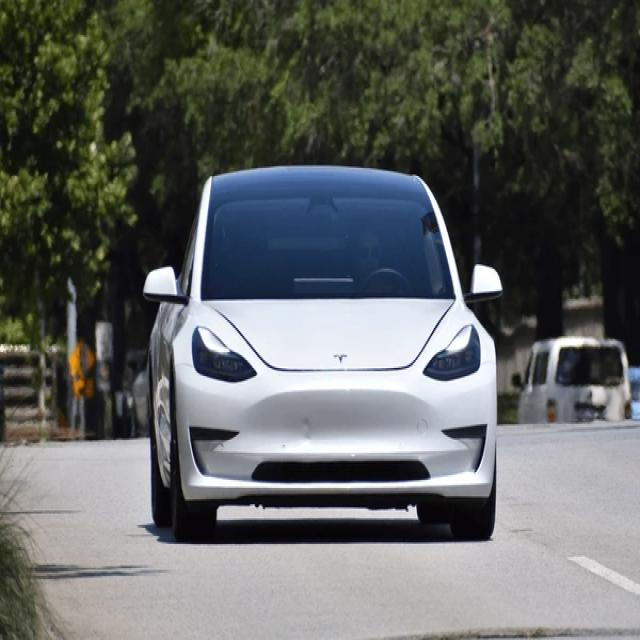tesla: (331, 349, 351, 366)
